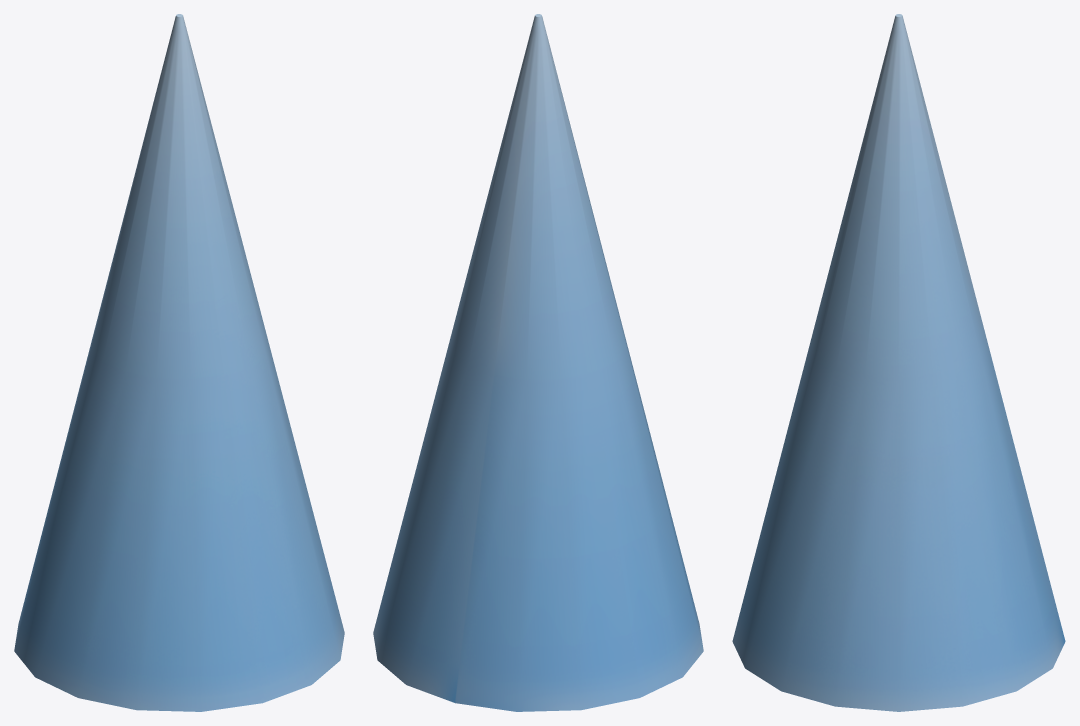
3 renders of one model, left to right at view 1: azimuth 30°, elevation 25°; view 2: azimuth 150°, elevation 25°; view 3: azimuth 270°, elevation 25°, orthographic.
Visible parts, largest first — view 1: Acc_Cone; view 2: Acc_Cone; view 3: Acc_Cone.
Part boxes in pixels (box(x1,y1,x2,y2)): Acc_Cone: box(14, 14, 344, 711); Acc_Cone: box(373, 14, 703, 711); Acc_Cone: box(732, 14, 1065, 711).
Size of the model in its own units: 62.09 by 129 by 62.09.
